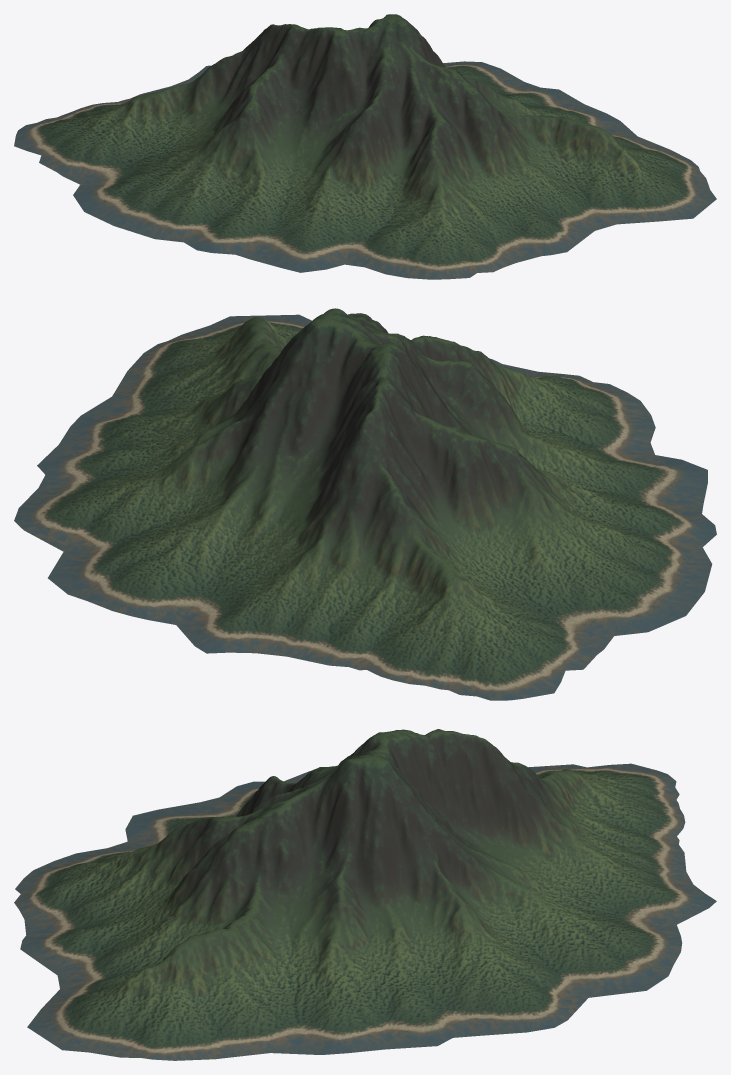
The model's file is island.fbx.
3 renders of one model, top to bottom at view 1: azimuth 30°, elevation 25°; view 2: azimuth 150°, elevation 25°; view 3: azimuth 270°, elevation 25°, orthographic. The views are drawn at different scales.
Visible parts, largest first — view 1: Terrain.001; view 2: Terrain.001; view 3: Terrain.001.
Part boxes in pixels (bbox=[...]): Terrain.001: bbox=[14, 14, 716, 279]; Terrain.001: bbox=[14, 308, 716, 700]; Terrain.001: bbox=[14, 729, 716, 1060].
Bounding box in the file's own units: 136 × 35.77 × 132.
